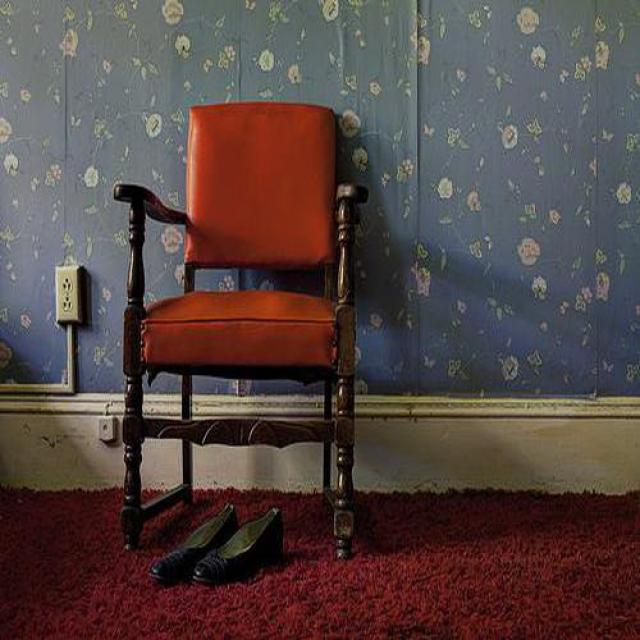chair: (113, 102, 369, 562)
